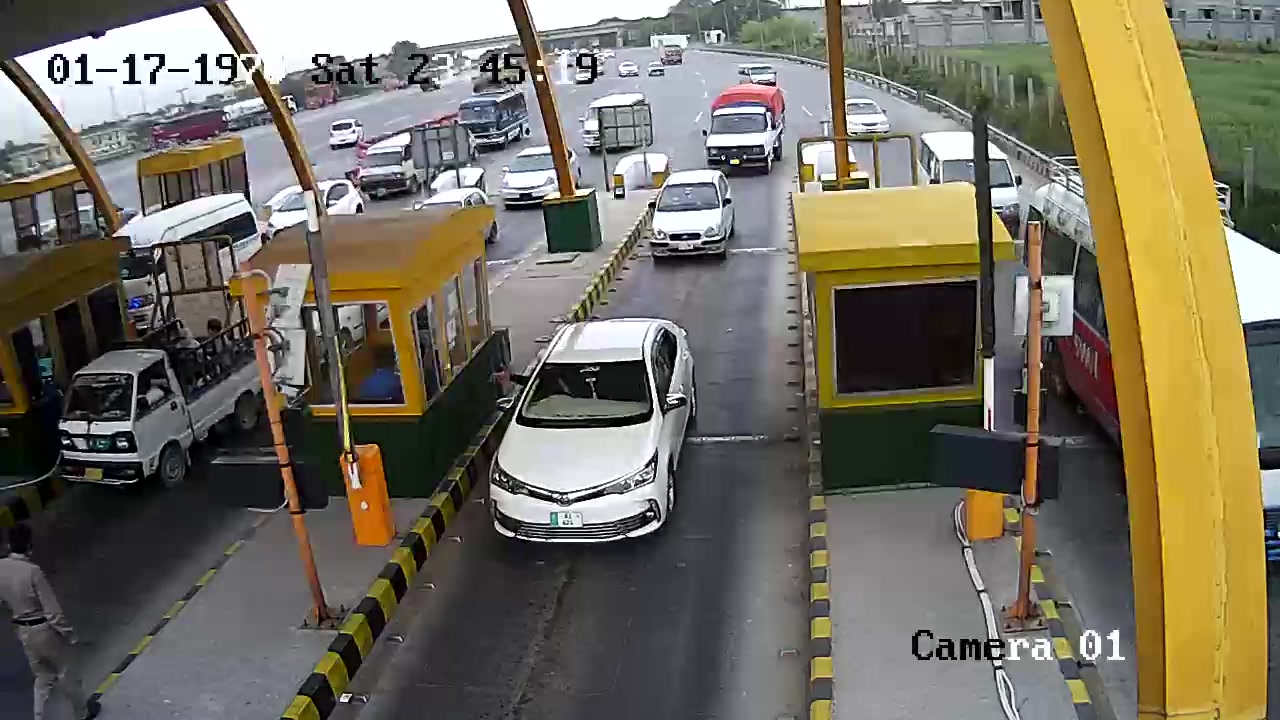F1: (486, 313, 719, 552)
